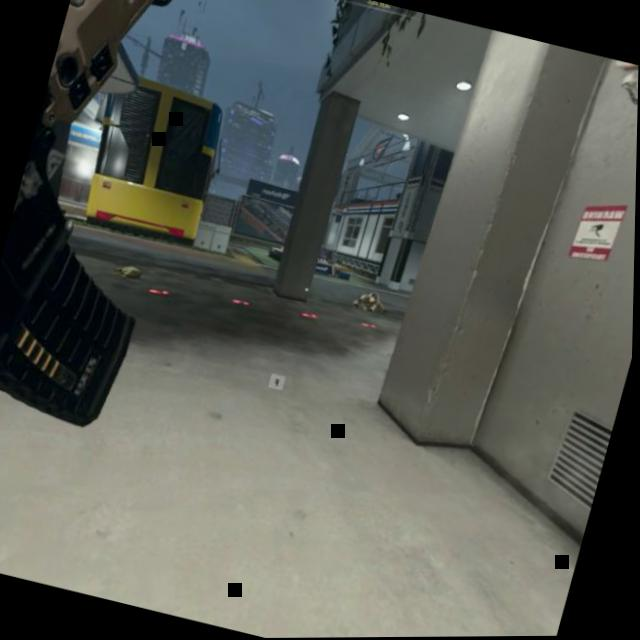MW2_body: (351, 286, 394, 319)
